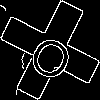O: (25, 25, 81, 84)
